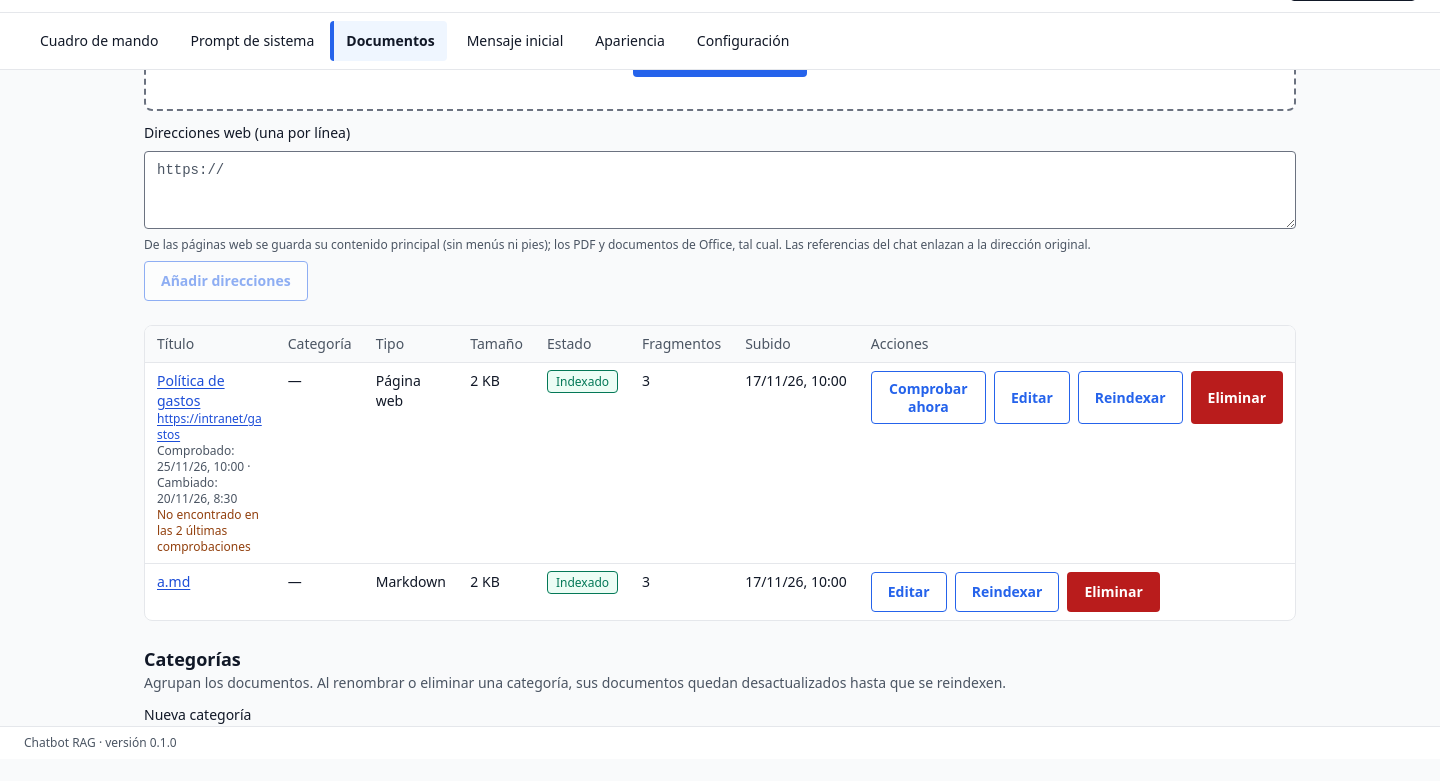
it: DocumentsPage › muestra la actualización de los documentos web y los comprueba a petición
This screenshot has width=1440, height=781.
(page scrolled)
Expected: the row "Política de gastos" shows "No encontrado en las 2 últimas comprobaciones", 157,506 -> 259,555
Step 1. Click the button with aria-label "Comprobar ahora: Política de gastos" → (928, 398), box 871,371 -> 986,424
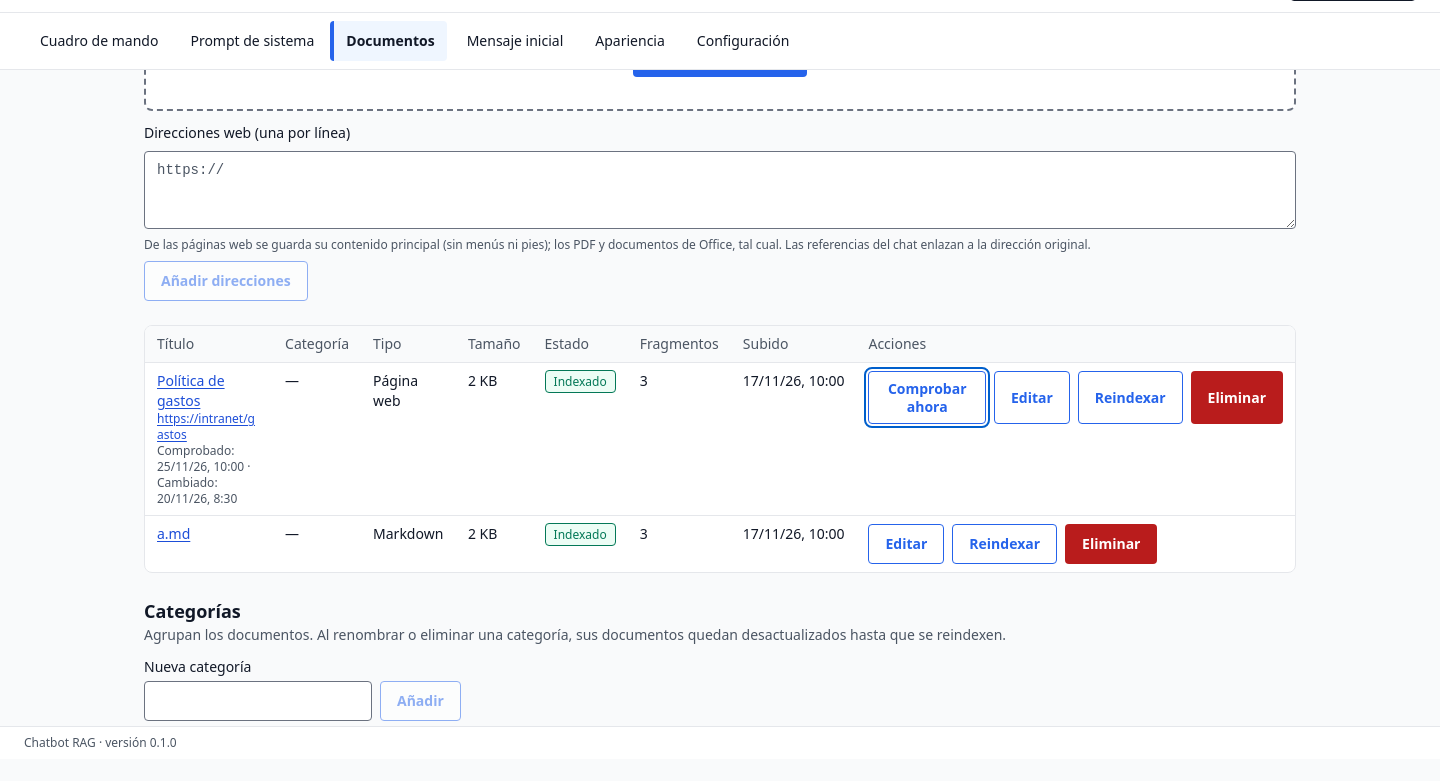
Expected: the row "Política de gastos" no longer shows "No encontrado", 145,362 -> 1295,516
